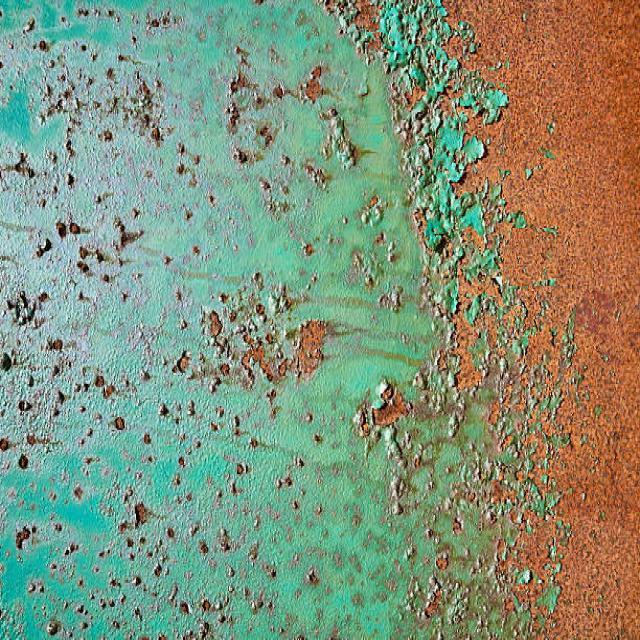Corrosion: (450, 0, 640, 640)
